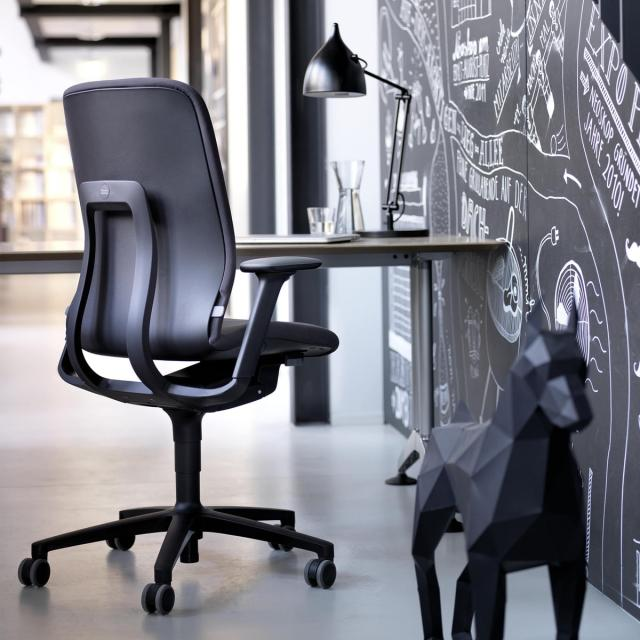chair: (17, 76, 340, 615), (411, 294, 593, 639)
